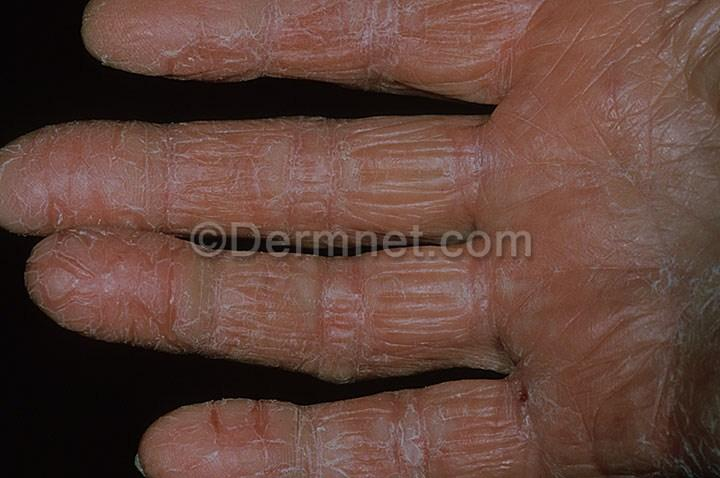Eczema: (518, 0, 706, 232), (557, 249, 719, 470), (326, 121, 495, 218), (43, 229, 179, 348), (159, 120, 323, 213), (337, 267, 489, 362), (184, 268, 334, 364), (95, 0, 275, 67), (299, 403, 450, 475), (278, 0, 444, 61), (29, 121, 136, 215), (458, 385, 558, 478), (178, 400, 299, 475), (491, 262, 556, 364), (447, 0, 518, 92)
